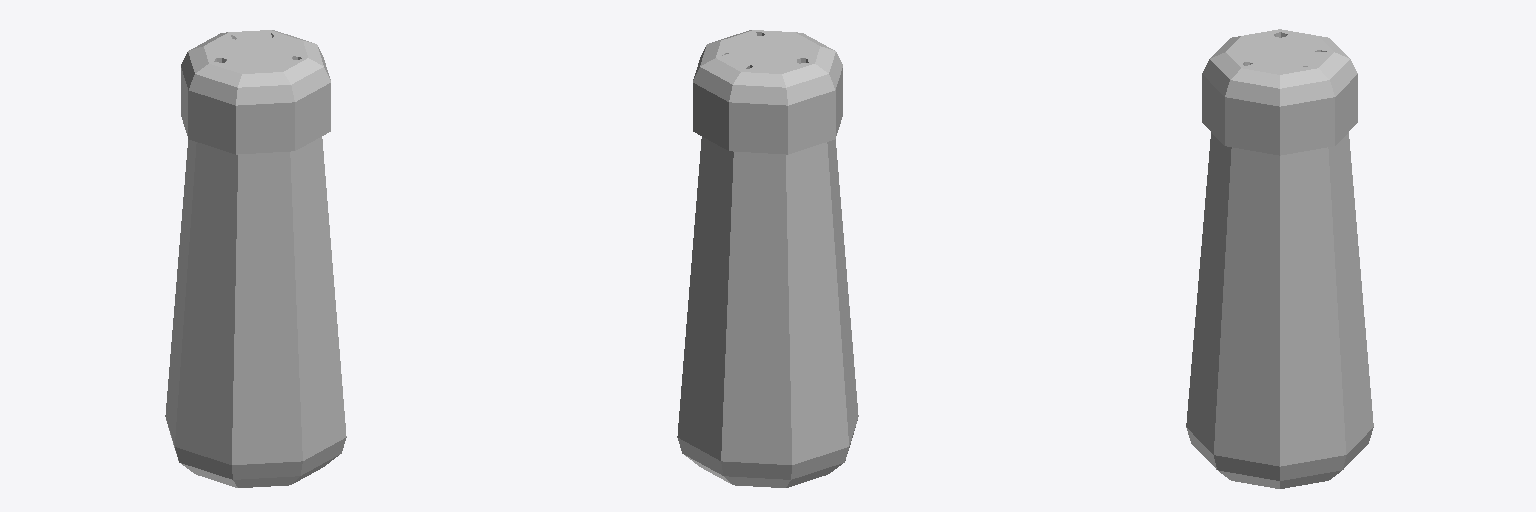
Rendered from utensil_shaker.obj.
3 renders of one model, left to right at view 1: azimuth 30°, elevation 25°; view 2: azimuth 150°, elevation 25°; view 3: azimuth 270°, elevation 25°, orthographic.
Visible parts, largest first — view 1: utensil_shaker_Cylinder.150; view 2: utensil_shaker_Cylinder.150; view 3: utensil_shaker_Cylinder.150.
Part boxes in pixels (x1,y1,x2,y2): utensil_shaker_Cylinder.150: (165, 30, 346, 487); utensil_shaker_Cylinder.150: (677, 30, 858, 487); utensil_shaker_Cylinder.150: (1186, 29, 1373, 488).
Bounding box in the file's own units: 1.16 × 2.78 × 1.16.